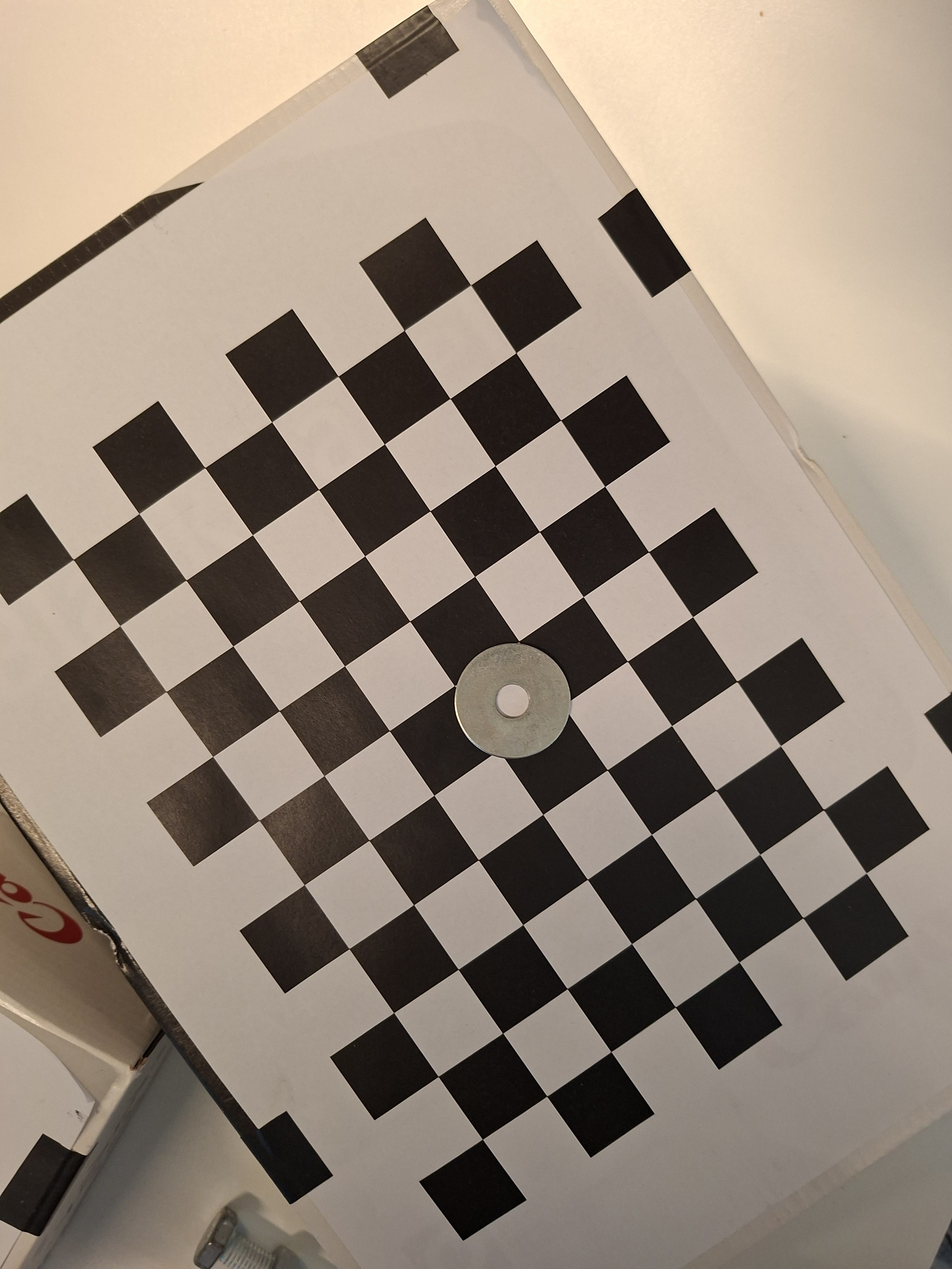washer: (446, 643, 584, 759)
